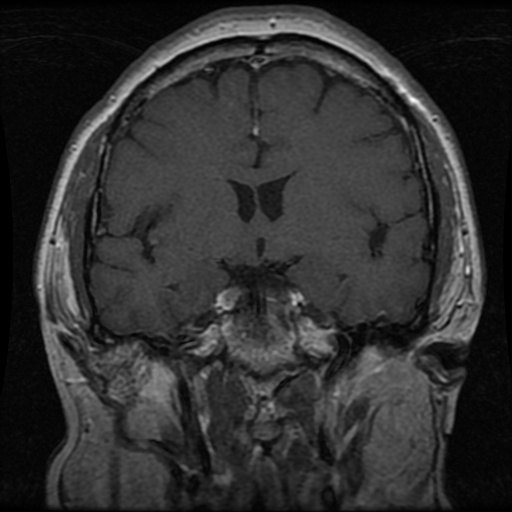pituitary: (217, 285, 241, 310)
